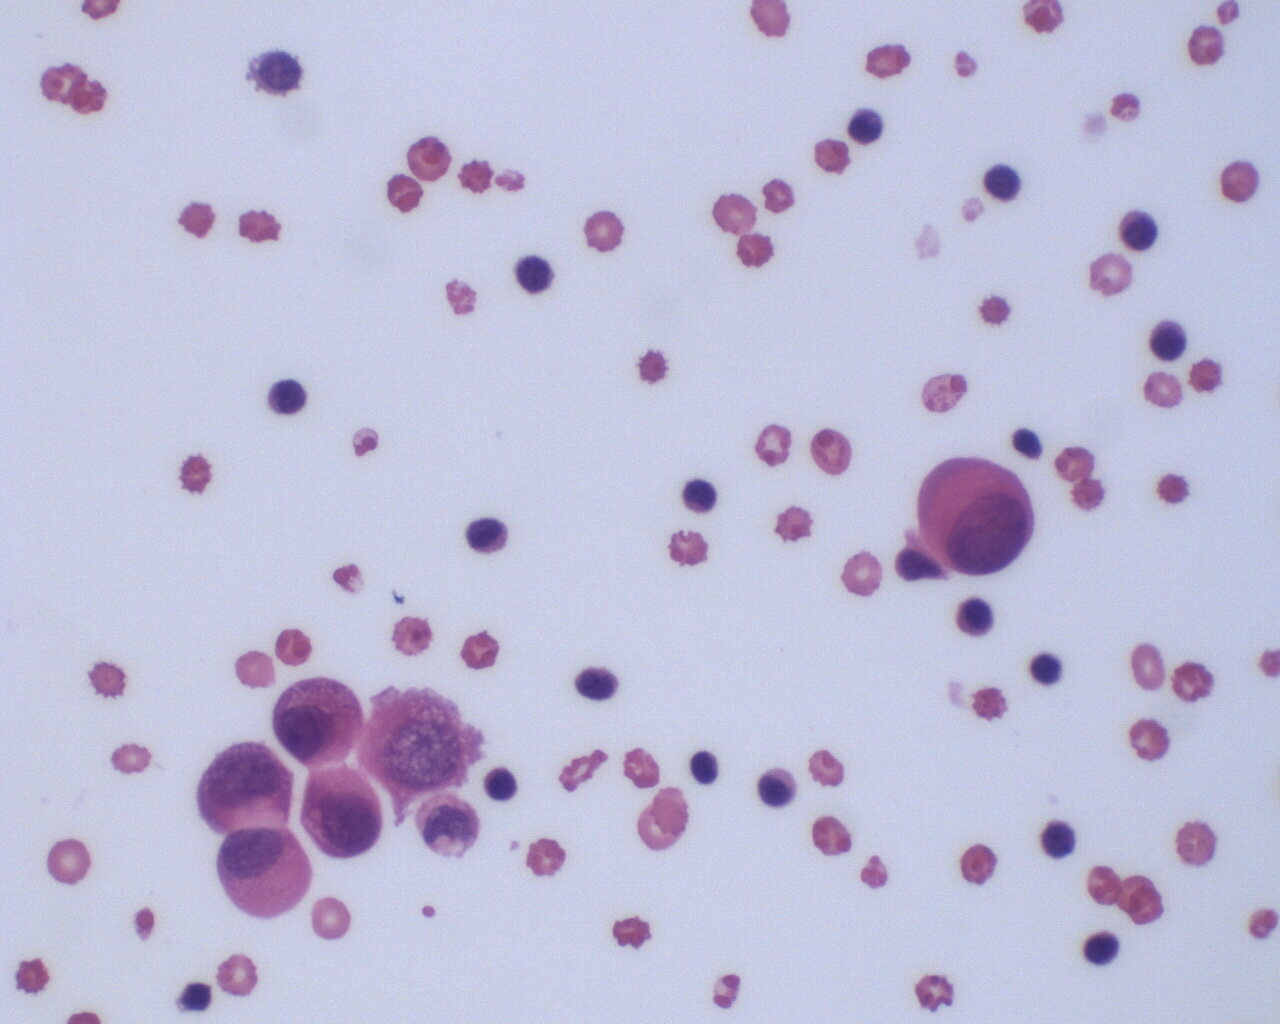ab: (914, 453, 1035, 587), (293, 765, 389, 863), (196, 741, 296, 833)
lymph: (459, 511, 510, 558), (1146, 319, 1194, 368), (264, 373, 313, 420), (1035, 815, 1083, 862), (755, 763, 799, 812), (513, 252, 556, 301), (980, 159, 1027, 203), (1118, 208, 1159, 258), (1080, 928, 1127, 971), (676, 471, 720, 515), (846, 102, 889, 145), (476, 761, 518, 802), (1027, 648, 1067, 692)
